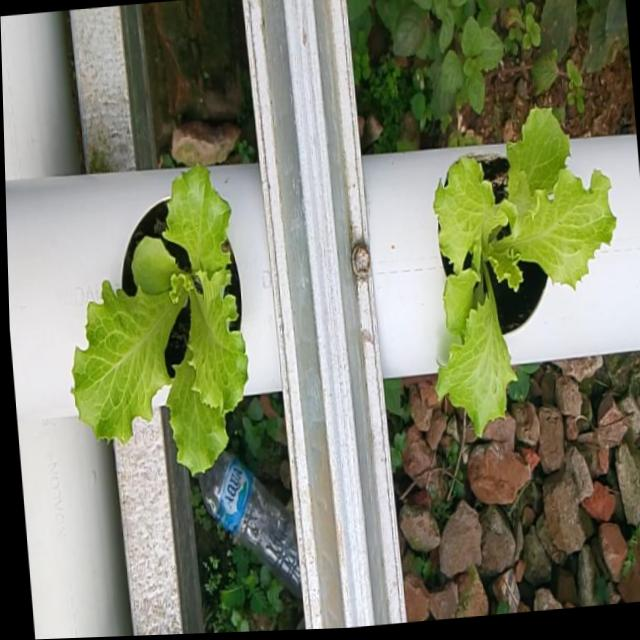Baby: (437, 103, 621, 433), (74, 159, 252, 472)
